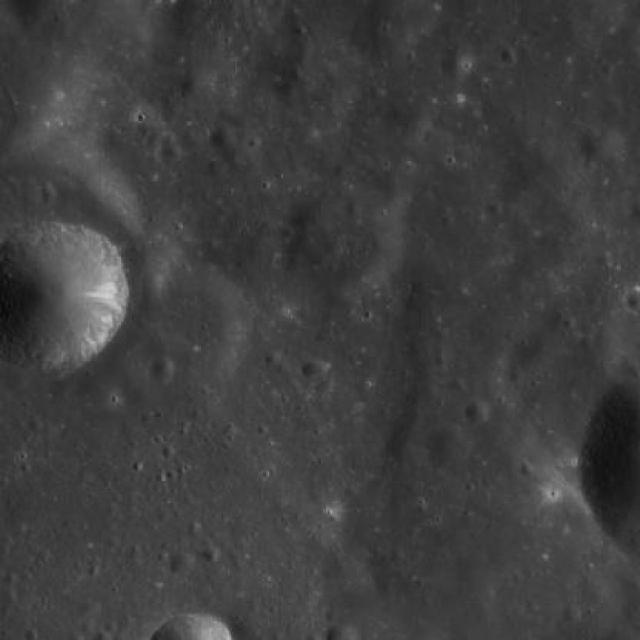crater: (0, 126, 140, 347), (0, 216, 126, 370), (0, 0, 117, 162), (278, 175, 404, 300), (146, 265, 254, 373), (266, 30, 363, 126), (74, 333, 144, 401), (353, 4, 419, 68), (426, 423, 476, 472), (173, 63, 216, 104), (584, 128, 626, 168), (396, 0, 441, 37), (440, 47, 474, 81), (212, 125, 238, 152), (151, 356, 177, 382), (156, 140, 182, 166), (3, 368, 29, 394), (466, 400, 491, 426), (304, 358, 327, 382), (157, 132, 180, 154), (223, 144, 246, 166), (172, 552, 194, 574), (206, 156, 228, 178), (484, 196, 504, 216), (204, 544, 222, 562), (332, 160, 350, 177), (366, 83, 384, 100), (452, 376, 468, 393), (314, 327, 332, 342), (566, 608, 582, 624), (502, 48, 518, 64), (348, 202, 364, 218), (21, 626, 37, 640)
